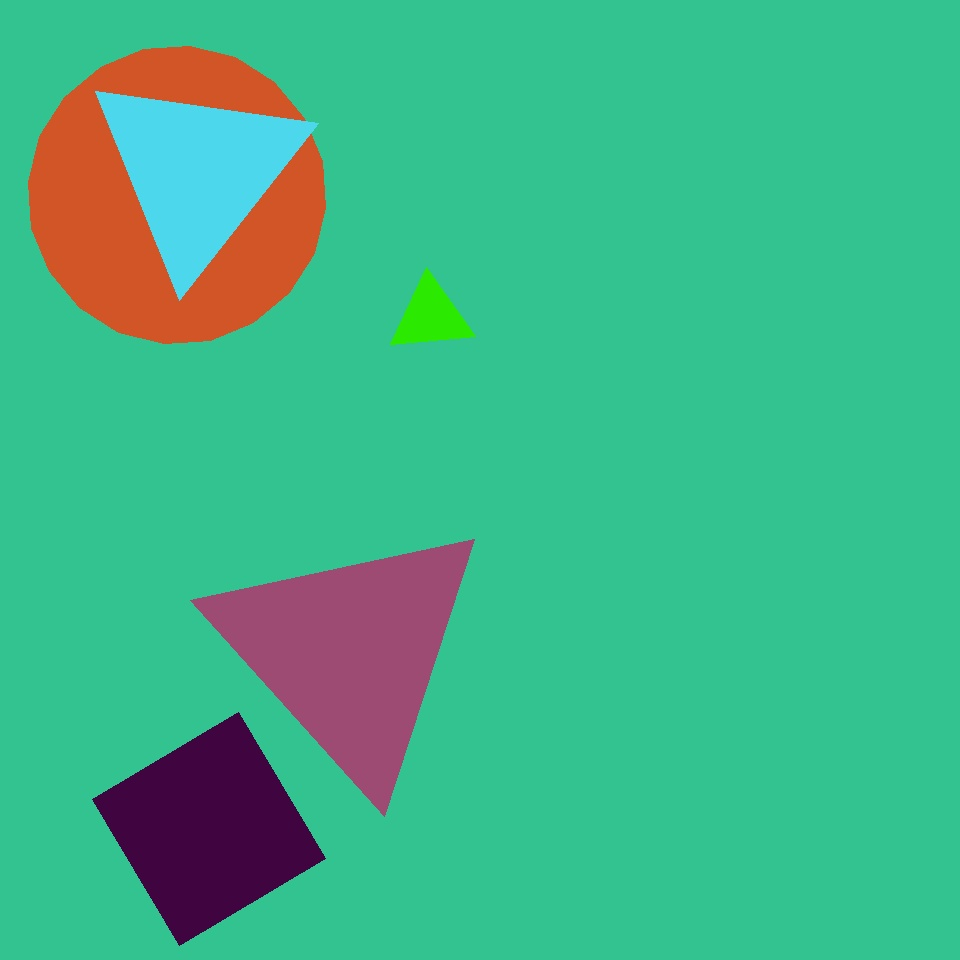circle: (208, 514, 492, 790), (406, 542, 700, 798), (86, 68, 310, 276), (272, 540, 439, 708), (389, 278, 474, 354)
square: (500, 212, 736, 448), (92, 712, 326, 946), (613, 414, 796, 596)
triangle: (29, 46, 326, 344), (312, 681, 583, 951)
